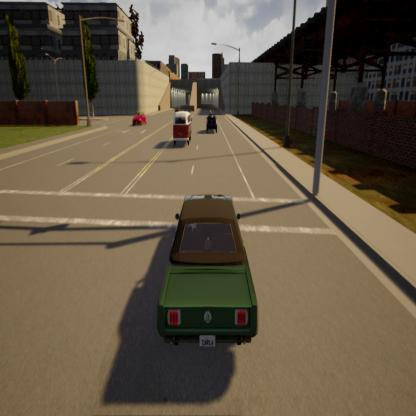Cars: (148, 178, 268, 357), (171, 104, 195, 147), (205, 108, 221, 136), (132, 102, 149, 127)
